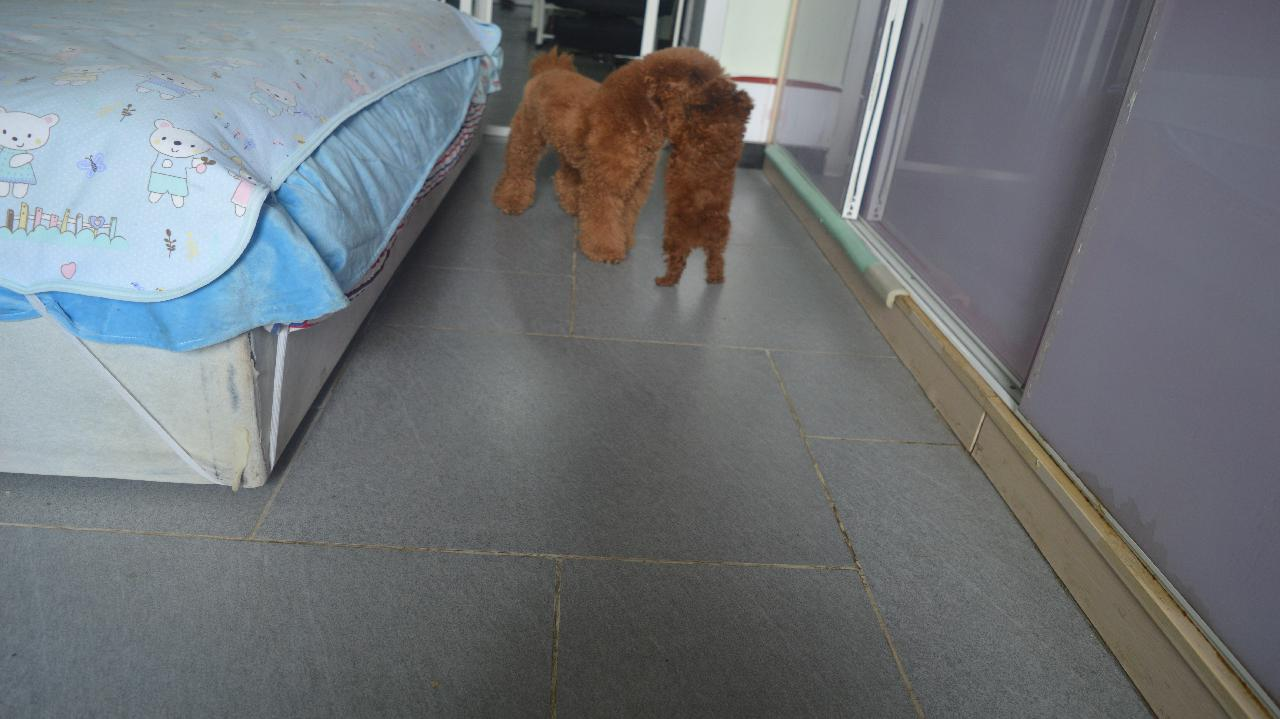coin: (669, 98, 753, 291)
zhuangzhuang: (501, 47, 680, 269)
